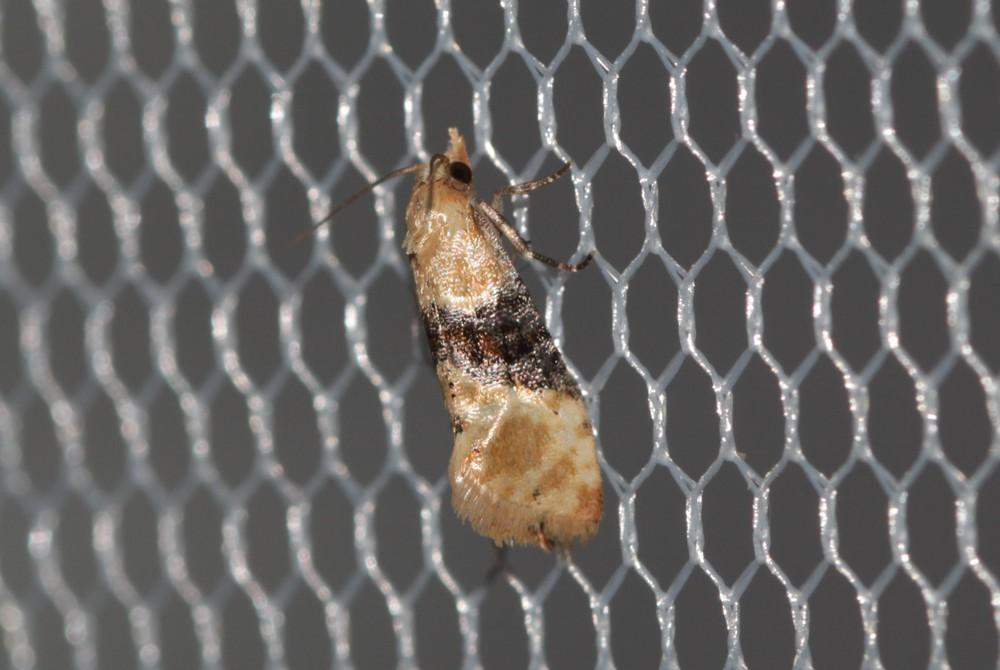Eupoecilia Ambiguella: (296, 124, 609, 555)
